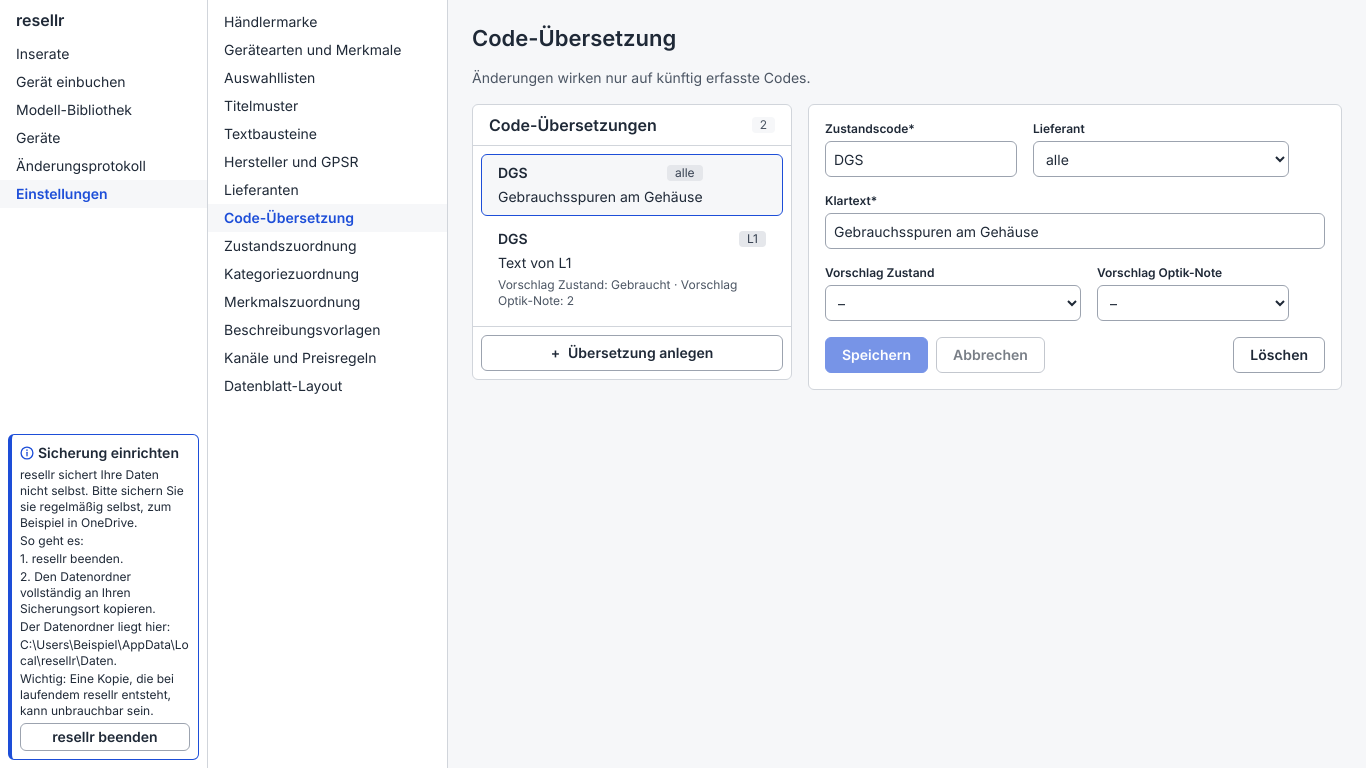
it: UI-033 condition codes (CU-100) › UI-033.success DER-38-08 DER-38-03 "Löschen" opens the confirmation P-04 first; only "Löschen" in the dialog sends the DELETE
Expected: the field labelled "Zustandscode*" holds "DGS", [825,141,1017,177]
What coordinates should you click on to do the following:
click the button "Löschen"
I would click on:
 (1279, 355)
Its box is [1233,337,1325,373].
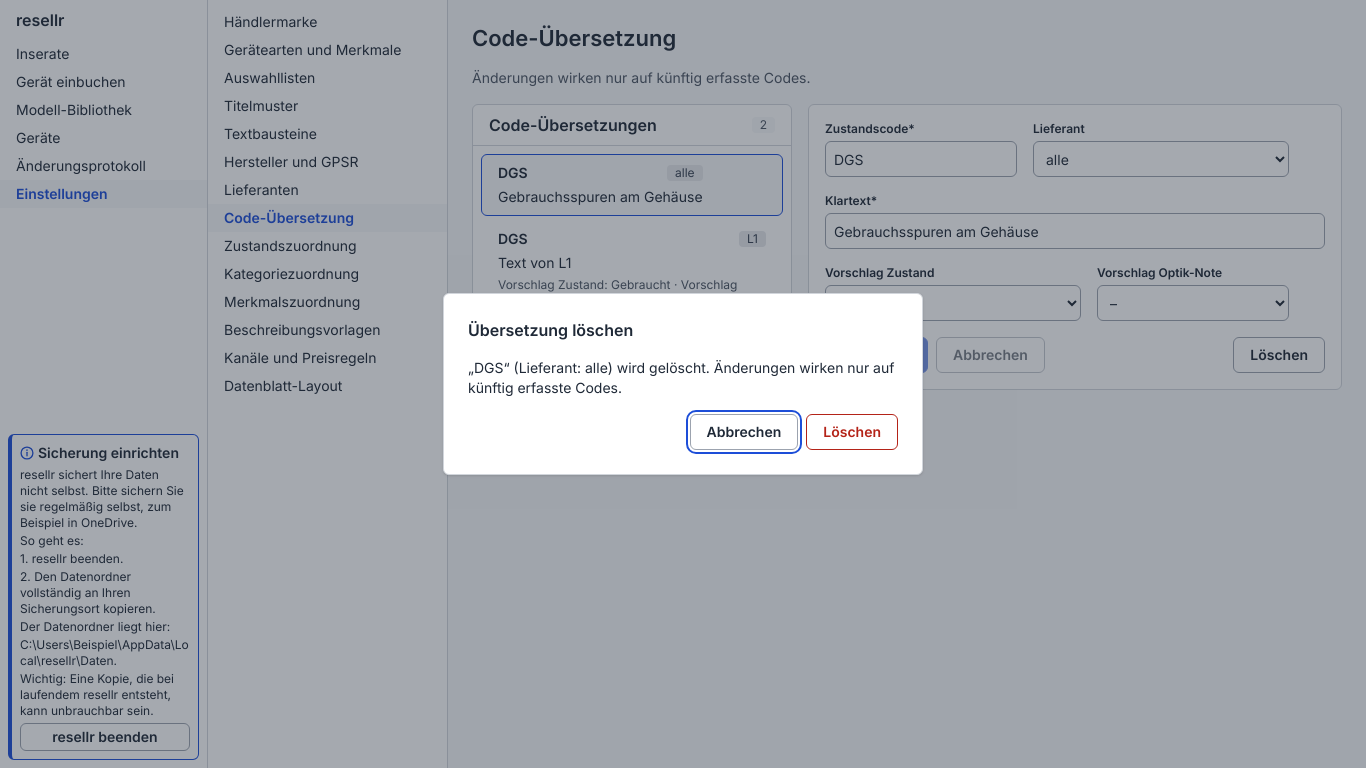
Now the dialog "Übersetzung löschen" shows "„DGS“ (Lieferant: alle) wird gelöscht. Änderungen wirken nur auf künftig erfasste Codes.", box [468,359,894,396]
Now the buttons read "Abbrechen", "Löschen", in this order
What coordinates should you click on to do the following:
click the button "Löschen"
I would click on:
 (852, 432)
Its box is [806,414,898,450].
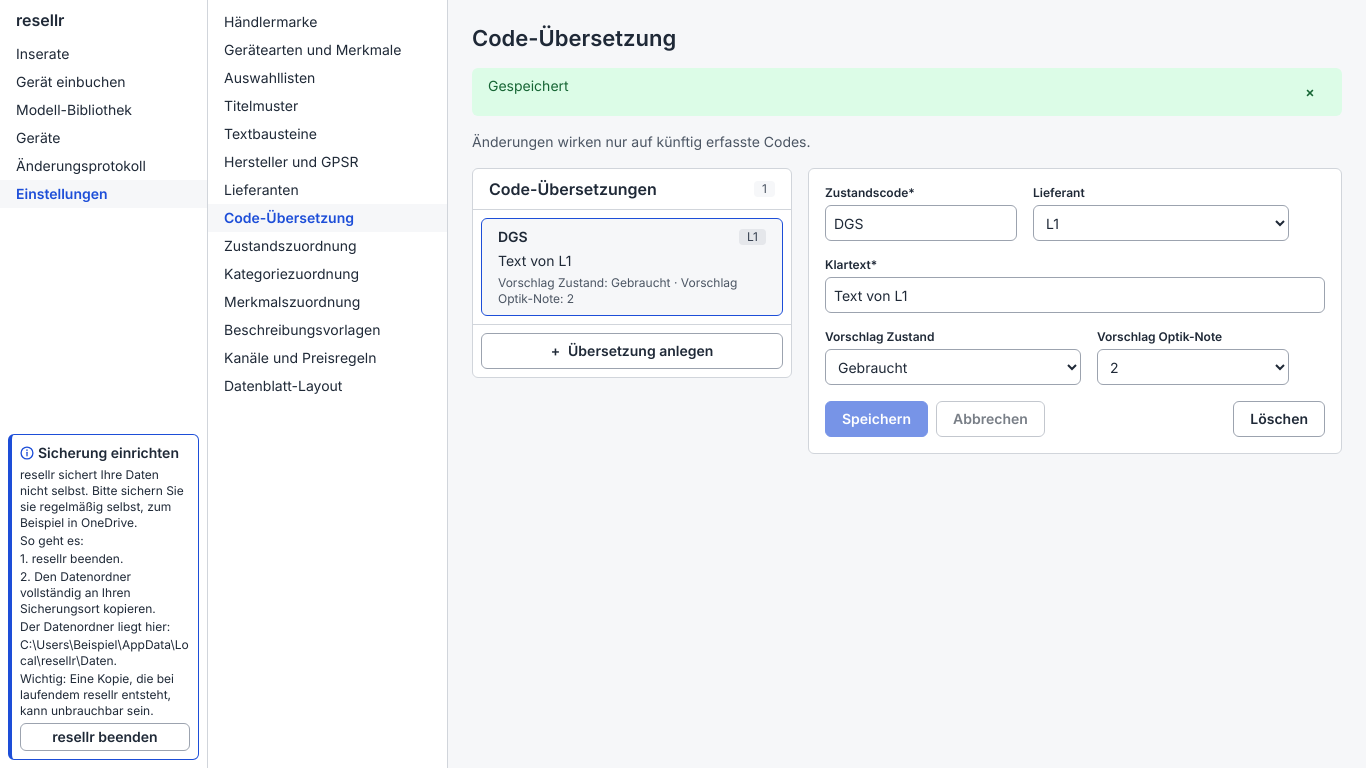
Now the text "Gespeichert" is shown, box [488,77,569,94]
Now the dialog is gone
Now the field labelled "Klartext*" holds "Text von L1", box [825,277,1325,313]
